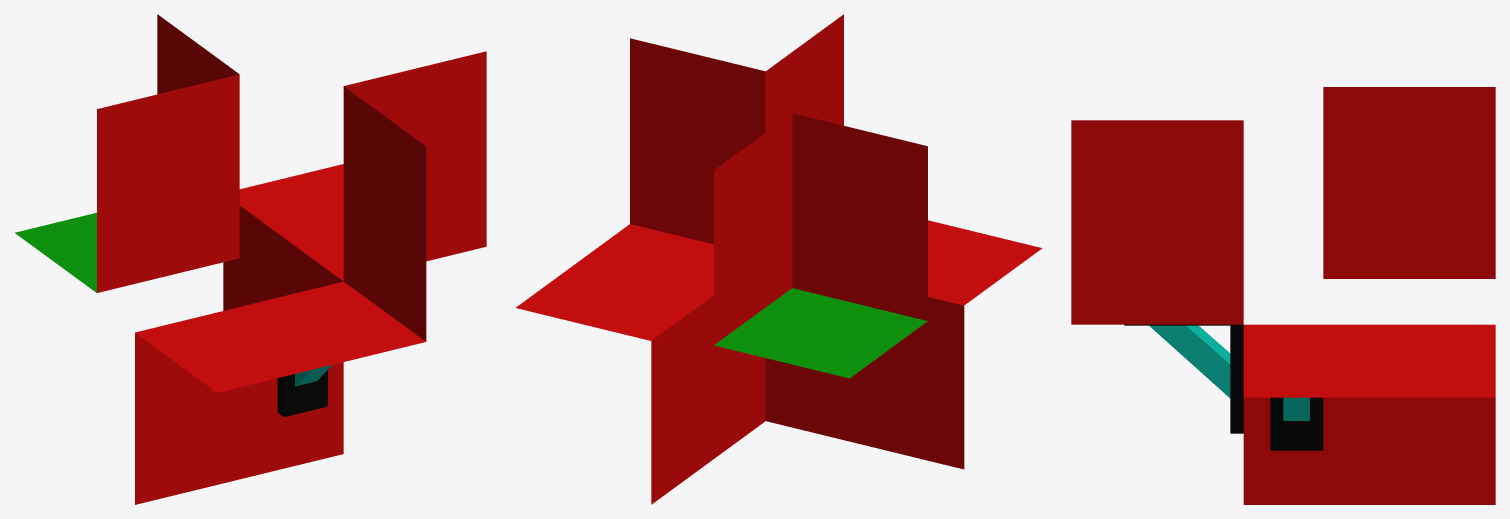
3 views of the same model, side by side, from view 1: azimuth 30°, elevation 25°; view 2: azimuth 150°, elevation 25°; view 3: azimuth 270°, elevation 25° (orthographic). The views are drawn at different scales.
Parts seen in each view (by area): view 1: None_E_E_A_E_W_E_E_A_None; view 2: None_E_E_A_E_W_E_E_A_None; view 3: None_E_E_A_E_W_E_E_A_None.
Part boxes in pixels (<box>): None_E_E_A_E_W_E_E_A_None: <box>14,14,486,504</box>; None_E_E_A_E_W_E_E_A_None: <box>516,14,1042,504</box>; None_E_E_A_E_W_E_E_A_None: <box>1071,87,1495,504</box>.
Size of the model in its own units: 100 by 100 by 100.
